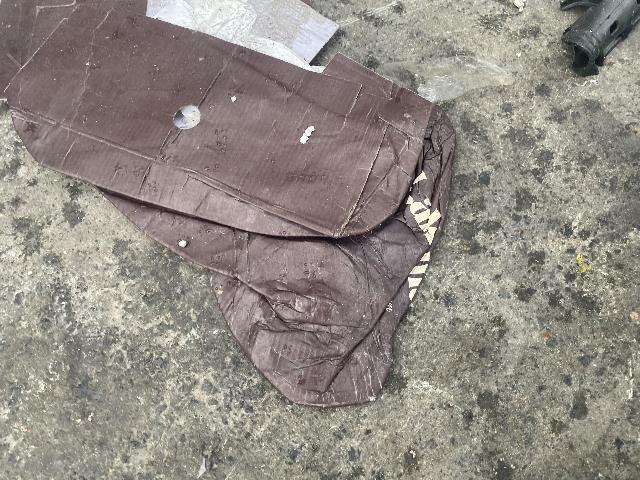Kagit: (0, 0, 459, 414)
Plastik: (557, 0, 640, 80)
